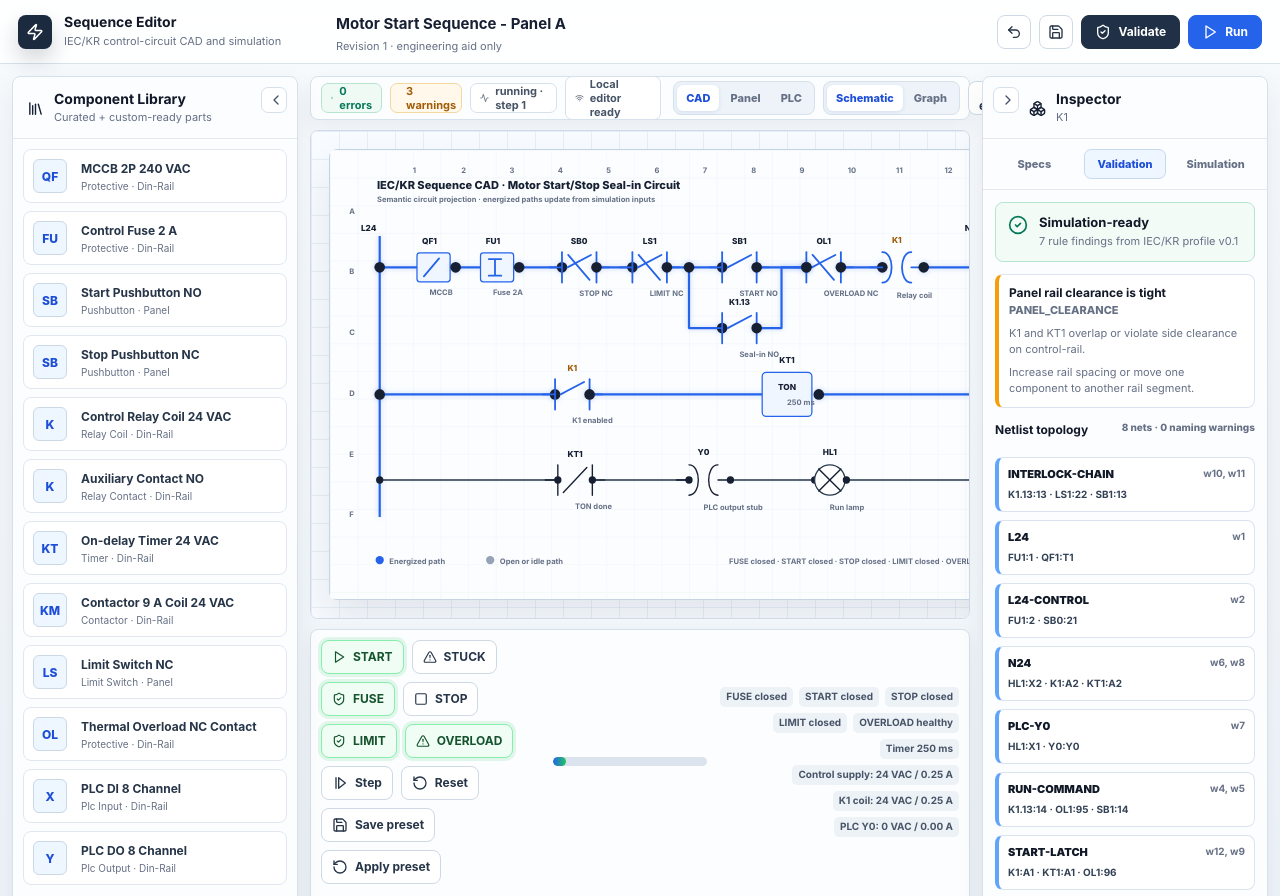
Sequence Editor app › steps the simulation and exposes energized net readings
The image size is (1280, 896).
Step 1. Click the button "Step" → click(357, 783), box 321,766 -> 393,800
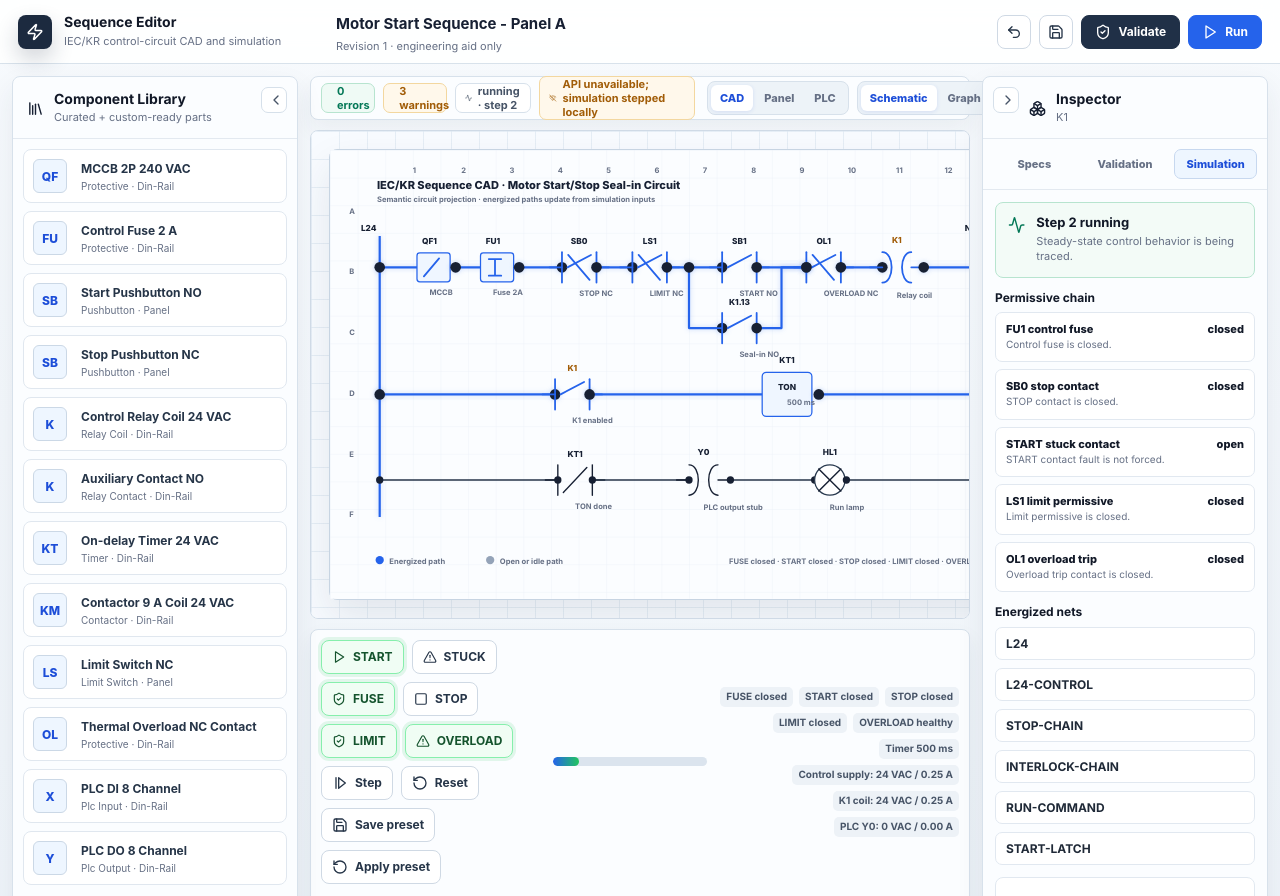
Check: the text "Control supply: 24 VAC / 0.25 A" is shown, box 792,765 -> 959,785
Check: the text "Step 2 running" is shown, box 1036,215 -> 1129,231
Check: the text "API unavailable; simulation stepped locally" is shown, box 539,76 -> 695,120
